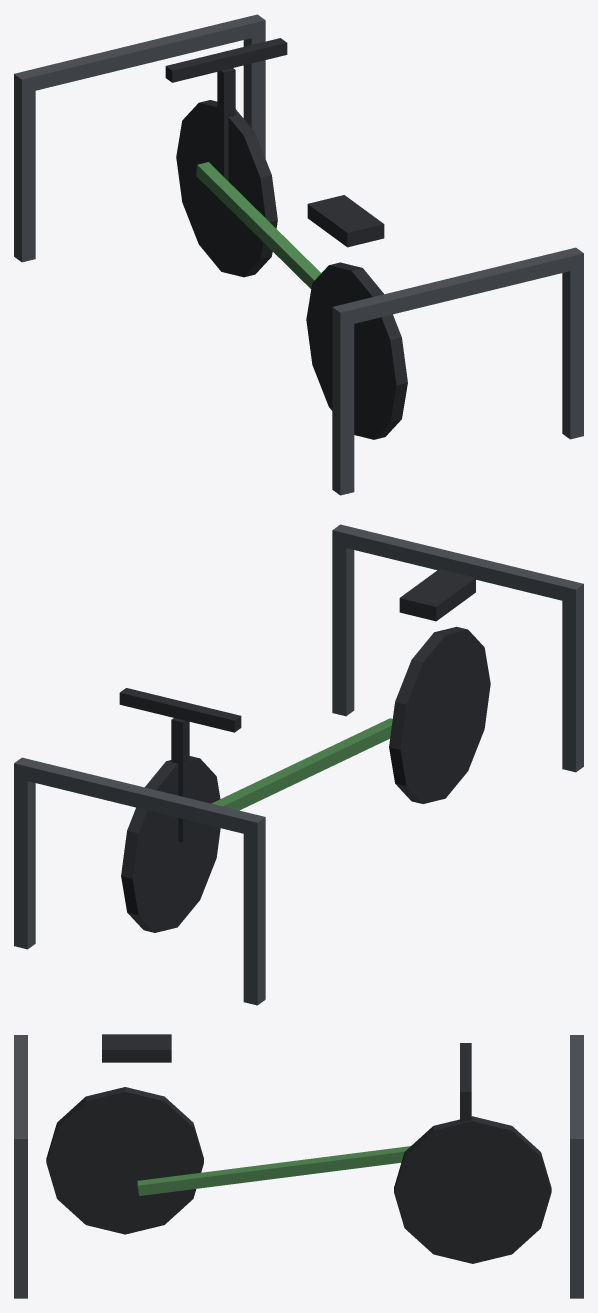
Rendered from prop.bicycle-parked.glb.
3 renders of one model, top to bottom at view 1: azimuth 30°, elevation 25°; view 2: azimuth 150°, elevation 25°; view 3: azimuth 270°, elevation 25°, orthographic. The views are drawn at different scales.
Parts seen in each view (by area): view 1: prop.bicycle-parked; view 2: prop.bicycle-parked; view 3: prop.bicycle-parked.
Boxes of the visible parts, left/top/right/bottom form: prop.bicycle-parked: left=14, top=14, right=583, bottom=495; prop.bicycle-parked: left=14, top=524, right=583, bottom=1005; prop.bicycle-parked: left=14, top=1034, right=583, bottom=1298.
Bounding box in the file's own units: 1.06 × 0.915 × 2.46.
